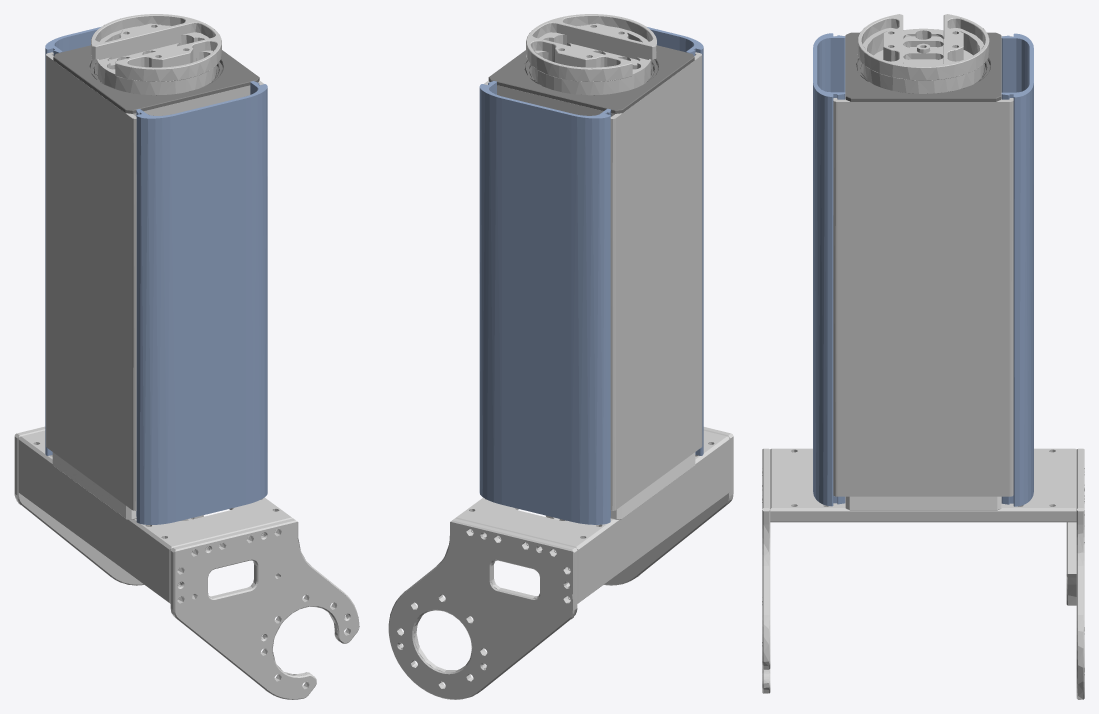
The model's file is robotis_arm_link3.dae.
3 renders of one model, left to right at view 1: azimuth 30°, elevation 25°; view 2: azimuth 150°, elevation 25°; view 3: azimuth 270°, elevation 25°, orthographic.
Parts seen in each view (by area): view 1: Untitled_006, Untitled_001, Untitled_003, Untitled_005, Untitled, Untitled_002, Untitled_004, Untitled_007, Untitled_008; view 2: Untitled_007, Untitled_001, Untitled_004, Untitled_005, Untitled, Untitled_002, Untitled_003, Untitled_006, Untitled_008; view 3: Untitled_001, Untitled_006, Untitled_007, Untitled_005, Untitled, Untitled_002, Untitled_004, Untitled_008, Untitled_003.
Boxes of the visible parts, x1,y1,x2,y2 form: Untitled_006: [136, 81, 267, 524]; Untitled_001: [46, 52, 263, 510]; Untitled_003: [170, 518, 359, 699]; Untitled_005: [18, 430, 292, 603]; Untitled: [90, 14, 221, 95]; Untitled_002: [53, 45, 259, 113]; Untitled_004: [14, 426, 203, 585]; Untitled_007: [45, 26, 101, 455]; Untitled_008: [52, 452, 136, 519]; Untitled_007: [479, 81, 611, 524]; Untitled_001: [484, 52, 702, 510]; Untitled_004: [388, 518, 577, 699]; Untitled_005: [455, 430, 729, 603]; Untitled: [526, 14, 656, 95]; Untitled_002: [488, 45, 694, 113]; Untitled_003: [546, 427, 733, 585]; Untitled_006: [647, 27, 703, 455]; Untitled_008: [610, 452, 695, 519]; Untitled_001: [833, 36, 1013, 496]; Untitled_006: [813, 33, 845, 506]; Untitled_007: [1001, 33, 1033, 506]; Untitled_005: [770, 448, 1076, 522]; Untitled: [857, 14, 989, 93]; Untitled_002: [845, 32, 1001, 101]; Untitled_004: [1066, 448, 1084, 699]; Untitled_008: [845, 496, 1001, 510]; Untitled_003: [762, 448, 770, 693].
Size of the model in its own units: 0.0827 by 0.12 by 0.2546.
